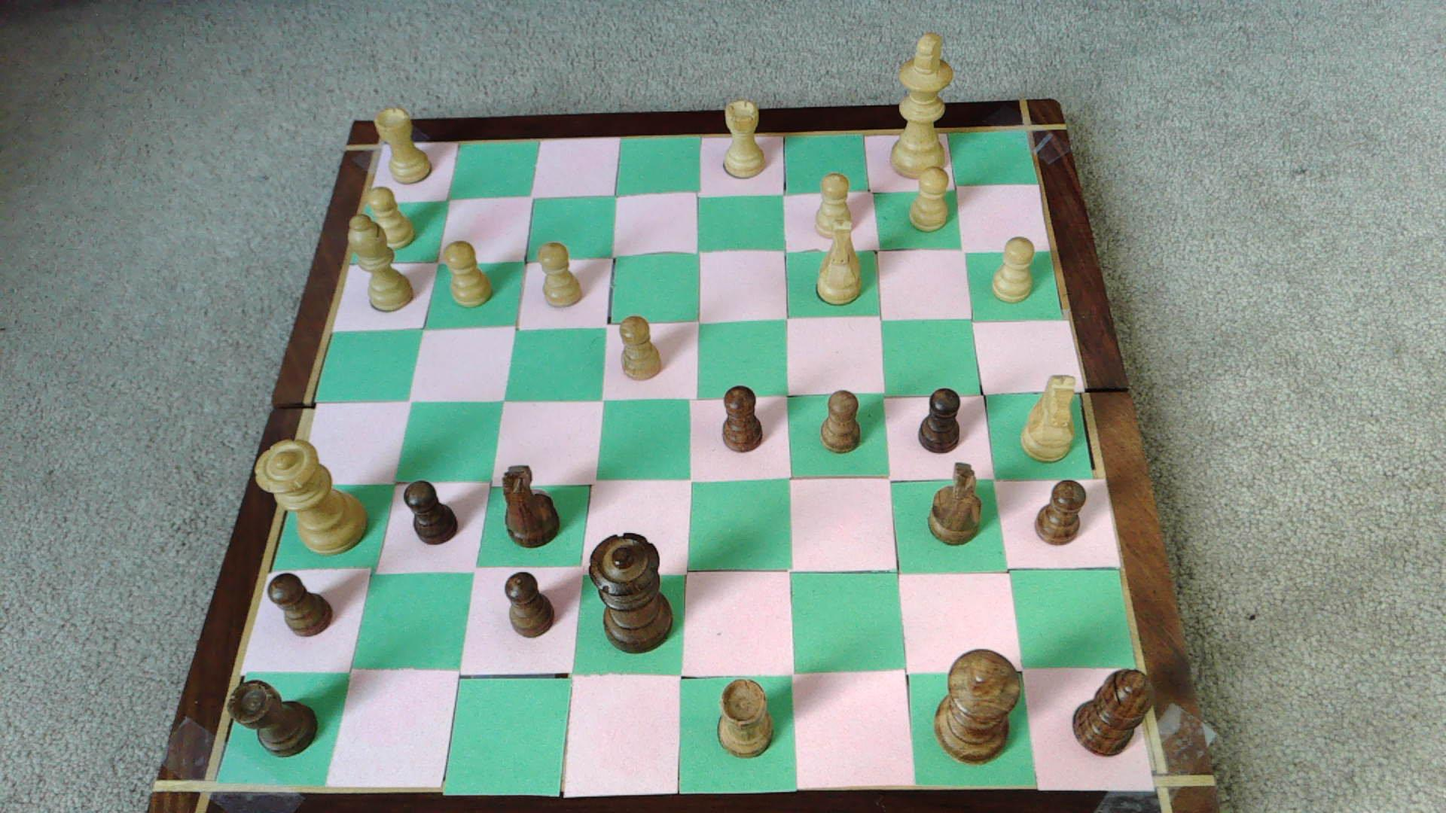dark_piece: (934, 649, 1020, 763), (590, 533, 672, 652), (230, 680, 318, 755), (1073, 669, 1150, 754), (503, 464, 559, 548), (928, 462, 982, 544), (718, 678, 773, 756), (269, 573, 333, 636), (404, 481, 457, 543), (505, 571, 554, 637), (1035, 481, 1086, 544), (918, 388, 960, 452), (722, 386, 762, 451), (820, 390, 860, 451)
white_piece: (255, 440, 366, 552), (889, 31, 955, 178), (348, 213, 413, 311), (1021, 374, 1077, 461), (375, 107, 433, 184), (358, 188, 415, 249), (723, 99, 767, 178), (816, 229, 861, 304), (443, 241, 492, 306), (538, 242, 583, 307), (992, 236, 1035, 302), (620, 315, 662, 379), (814, 172, 854, 239), (909, 167, 950, 231)
